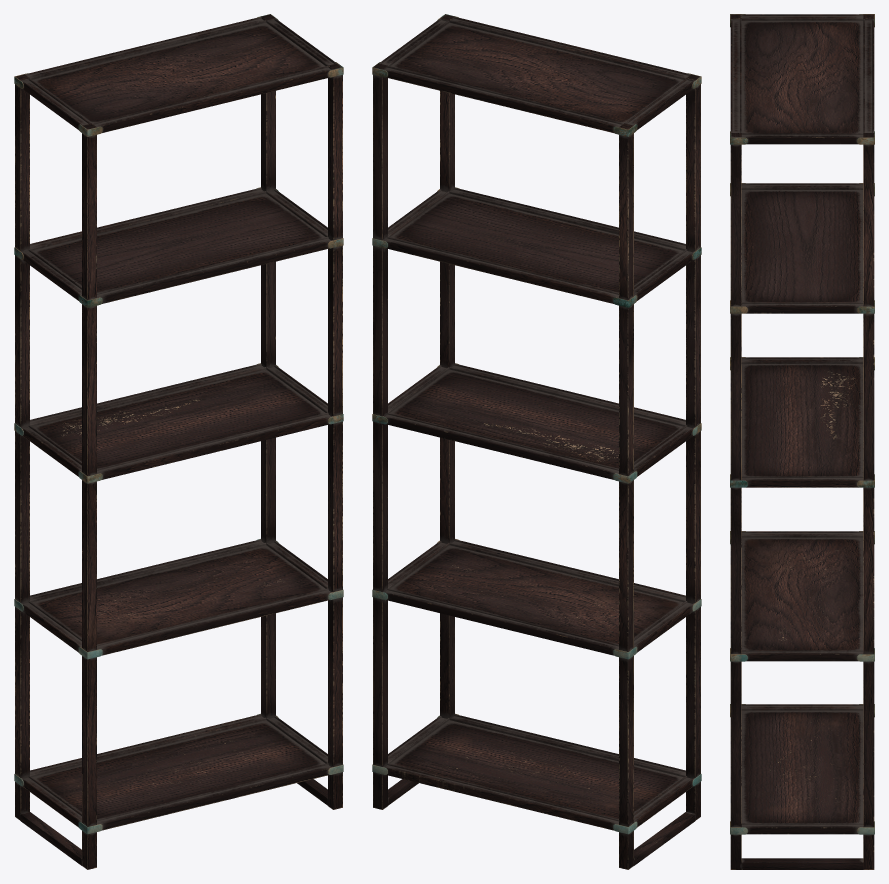
Rendered from SM_Cabinet238.fbx.
3 renders of one model, left to right at view 1: azimuth 30°, elevation 25°; view 2: azimuth 150°, elevation 25°; view 3: azimuth 270°, elevation 25°, orthographic.
Visible parts, largest first — view 1: SM_Cabinet238; view 2: SM_Cabinet238; view 3: SM_Cabinet238.
Part boxes in pixels (x1=…): SM_Cabinet238: x1=14, y1=14, x2=343, y2=869; SM_Cabinet238: x1=372, y1=14, x2=701, y2=869; SM_Cabinet238: x1=730, y1=14, x2=874, y2=869.
Bounding box in the file's own units: 56.13 × 155 × 27.74.
1 material, 1 textured.
